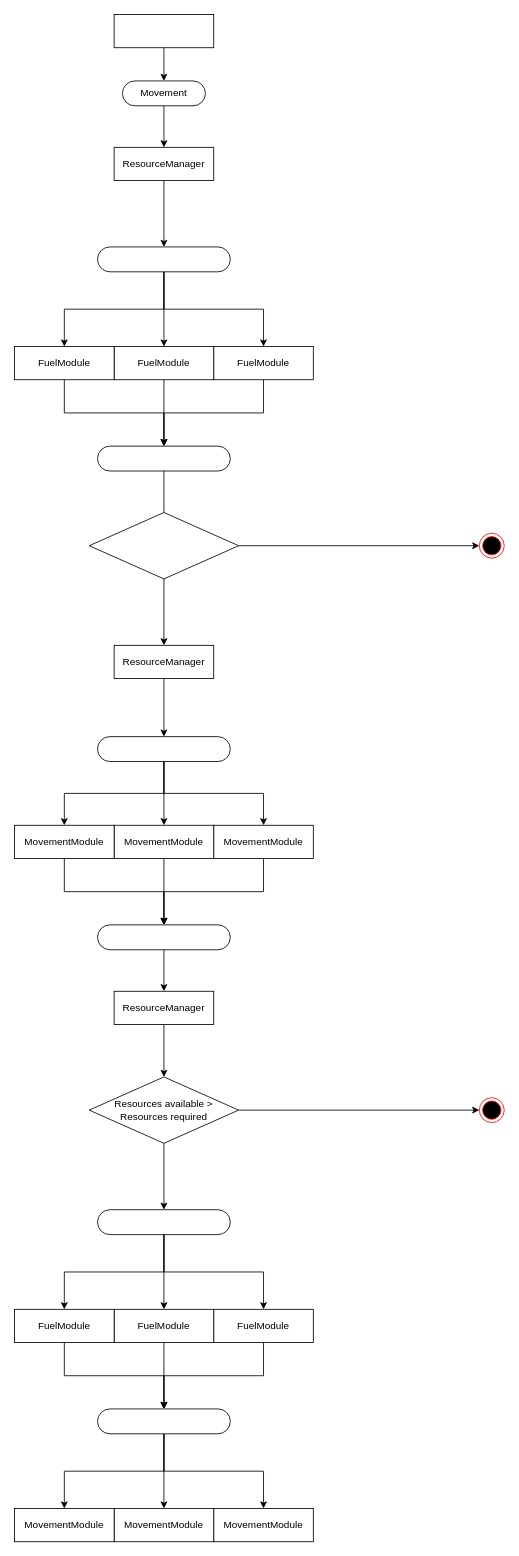
The diagram is 519 pixels wide and 1556 high, and some of its shapes have lost their labels. Here are the shapes that lost their labels. From the top down, the centre of each, then its label:
the point at 163,31: Player
the point at 163,259: get Resources
the point at 163,458: Resources available
the point at 163,545: Resources available = 0
the point at 163,749: get required Resources
the point at 163,937: Resource requirements
the point at 163,1222: resources
the point at 163,1421: movement instructions
